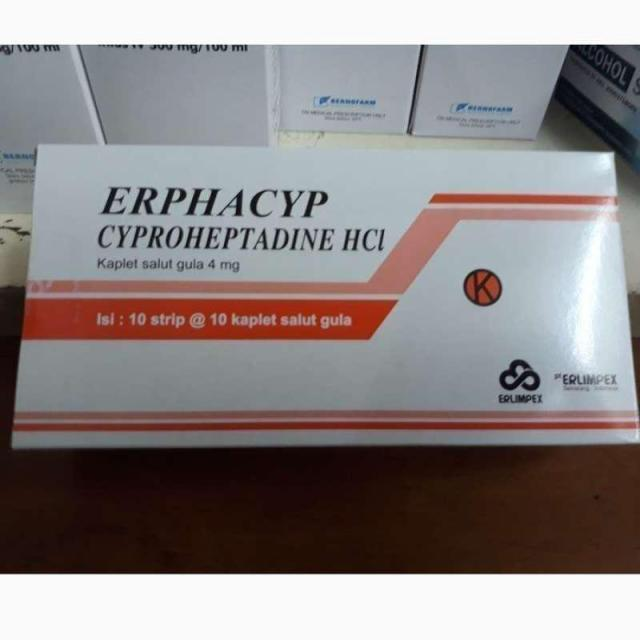drug-name: (98, 179, 334, 219)
